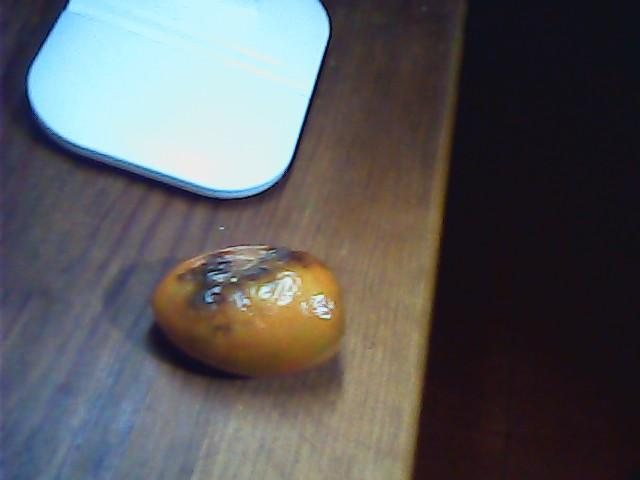defectuoso: (148, 243, 346, 374)
